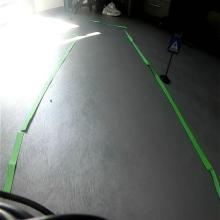crosswalk: (166, 36, 182, 55)
